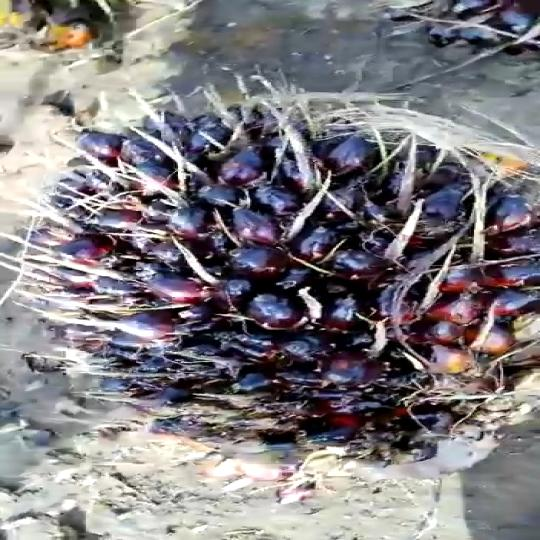mentah: (25, 100, 540, 473)
